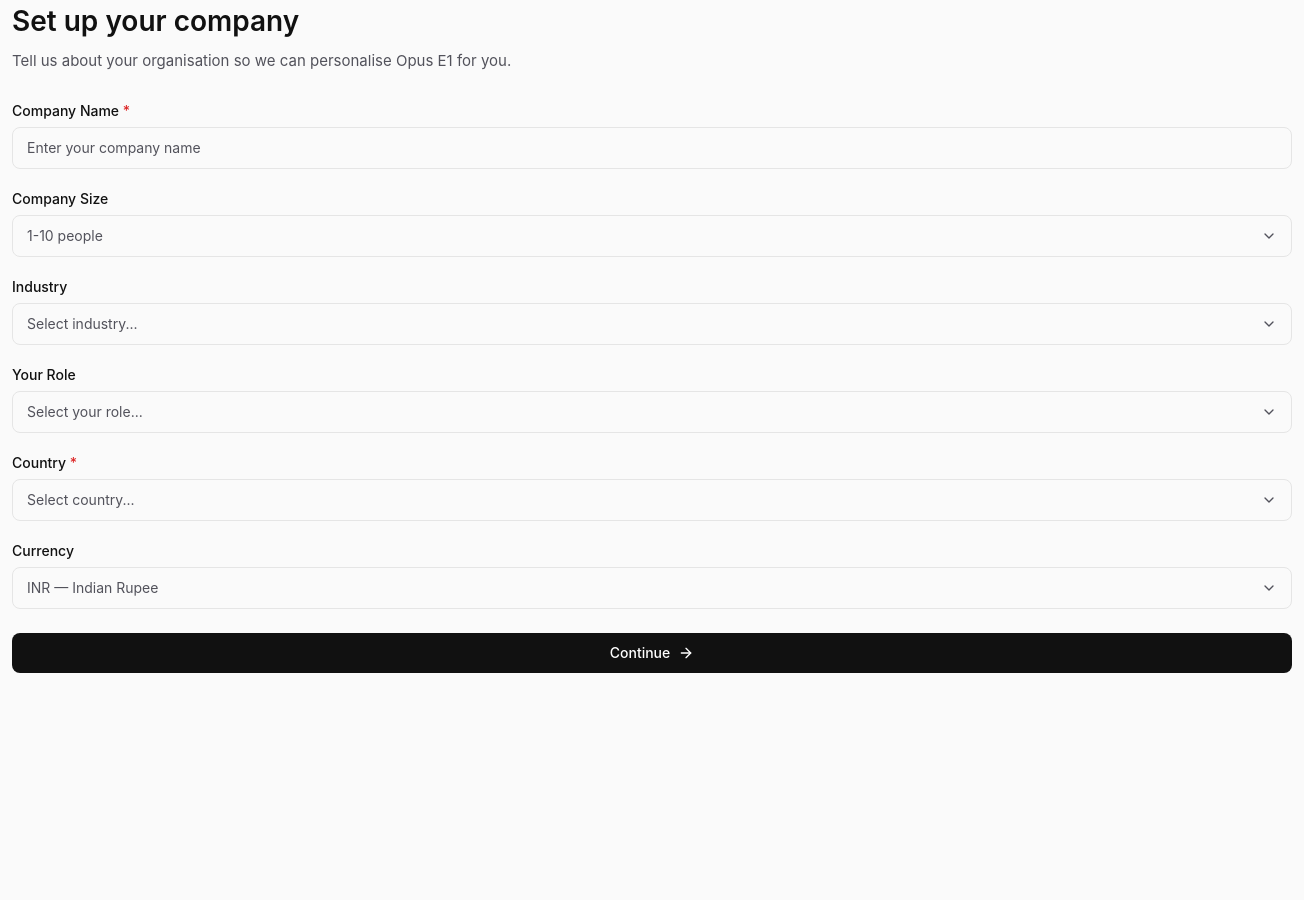
Scenario: CompanySetupForm › shows validation error when company name is too short
Step 1. Type "A" into the field labelled "Company Name *" → (652, 148), box x1=12 y1=126 x2=1292 y2=168
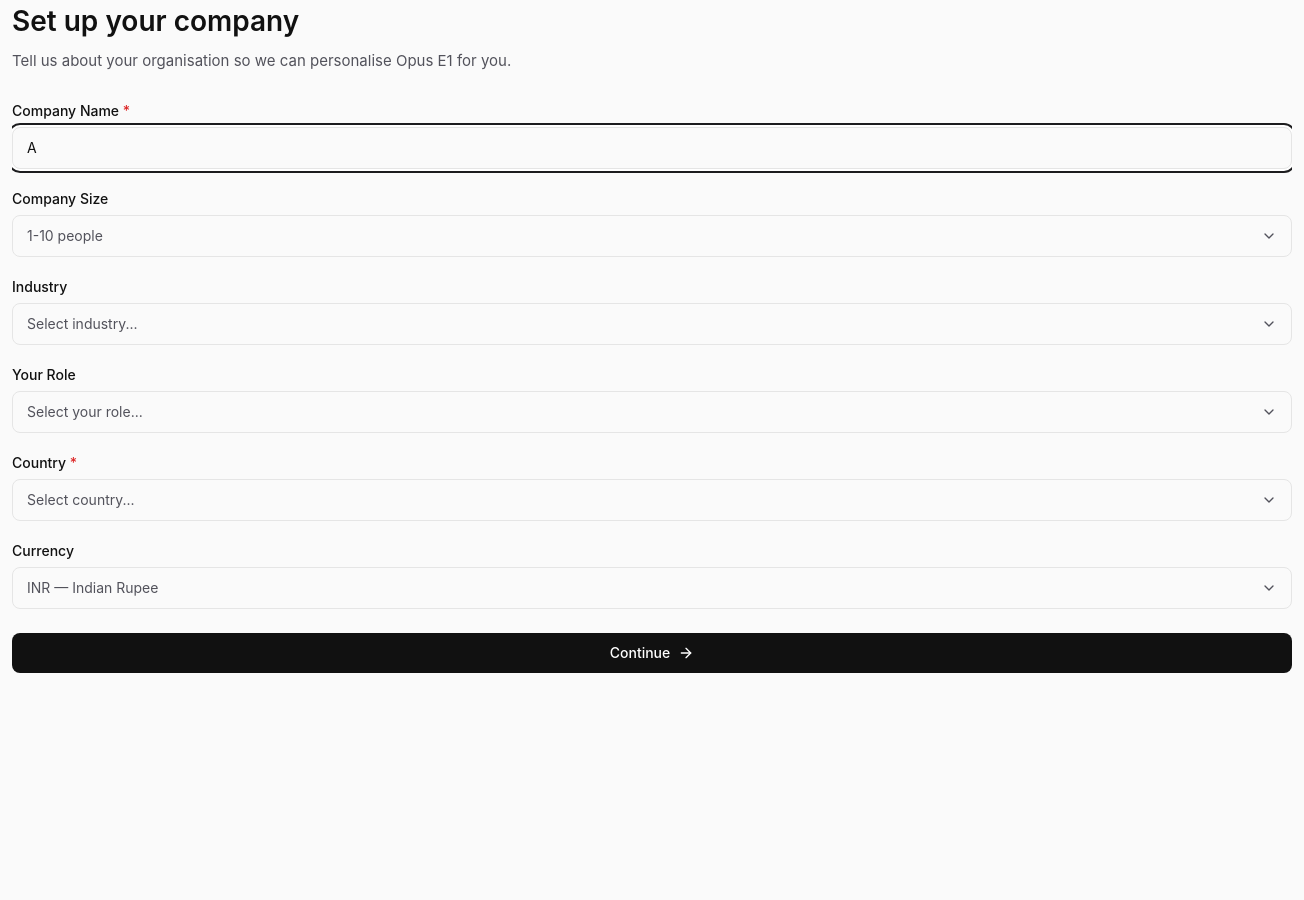
Step 2. Click the button "Continue" → (652, 652), box x1=12 y1=632 x2=1292 y2=672
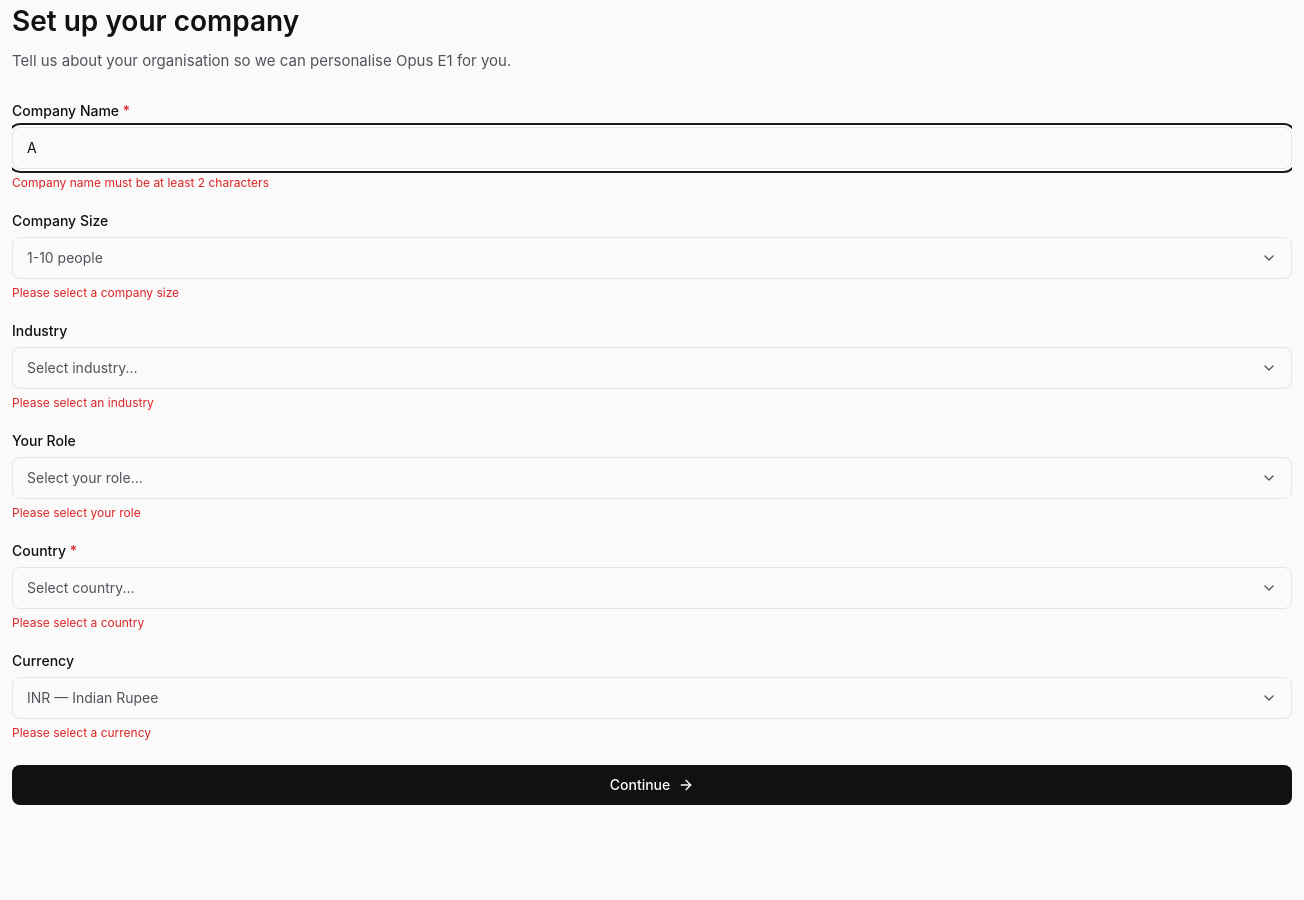
Now the text "Company name must be at least 2 characters" is shown, box x1=12 y1=174 x2=269 y2=190
